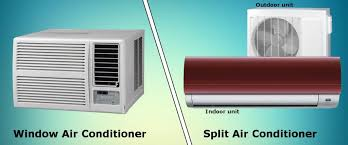ac: (182, 53, 341, 111)
